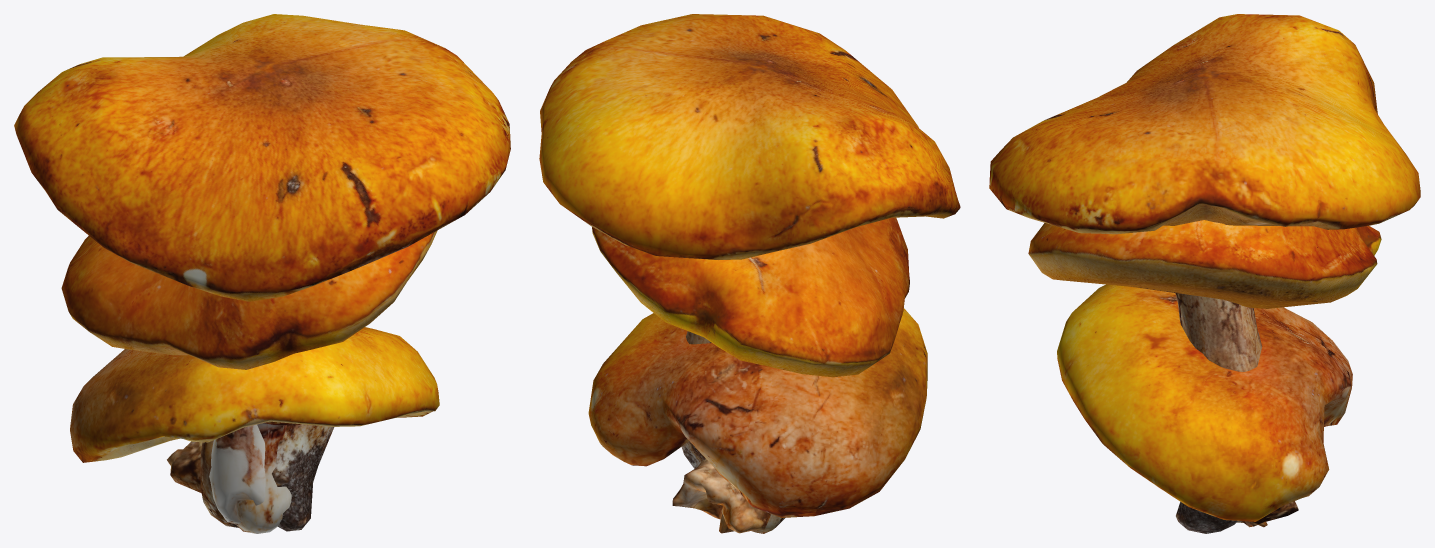
File: Bolete_Mushrooms_pdvcB_Mid.gltf
The picture shows the model from 3 angles, left to right: view 1: azimuth 30°, elevation 25°; view 2: azimuth 150°, elevation 25°; view 3: azimuth 270°, elevation 25°; orthographic projection. The views are drawn at different scales.
Visible parts, largest first — view 1: pdvcB_LOD0_TIER2_000, pdvcB_LOD0_TIER2_002, pdvcB_LOD0_TIER2_001, pdvcB_LOD0_TIER2_003, pdvcB_LOD0_TIER2_004; view 2: pdvcB_LOD0_TIER2_000, pdvcB_LOD0_TIER2_002, pdvcB_LOD0_TIER2_001; view 3: pdvcB_LOD0_TIER2_000, pdvcB_LOD0_TIER2_002, pdvcB_LOD0_TIER2_001.
Boxes of the visible parts, left/top/right/bottom form: pdvcB_LOD0_TIER2_000: left=14, top=14, right=510, bottom=531; pdvcB_LOD0_TIER2_002: left=70, top=327, right=439, bottom=492; pdvcB_LOD0_TIER2_001: left=61, top=230, right=437, bottom=527; pdvcB_LOD0_TIER2_003: left=209, top=424, right=265, bottom=525; pdvcB_LOD0_TIER2_004: left=236, top=421, right=301, bottom=533; pdvcB_LOD0_TIER2_000: left=539, top=14, right=960, bottom=468; pdvcB_LOD0_TIER2_002: left=588, top=308, right=927, bottom=533; pdvcB_LOD0_TIER2_001: left=592, top=217, right=909, bottom=533; pdvcB_LOD0_TIER2_000: left=989, top=14, right=1420, bottom=533; pdvcB_LOD0_TIER2_002: left=1057, top=284, right=1352, bottom=527; pdvcB_LOD0_TIER2_001: left=1028, top=220, right=1381, bottom=522.
Bounding box in the file's own units: 0.1 × 0.1095 × 0.0954.
Materials: 1 (1 with a texture image).
